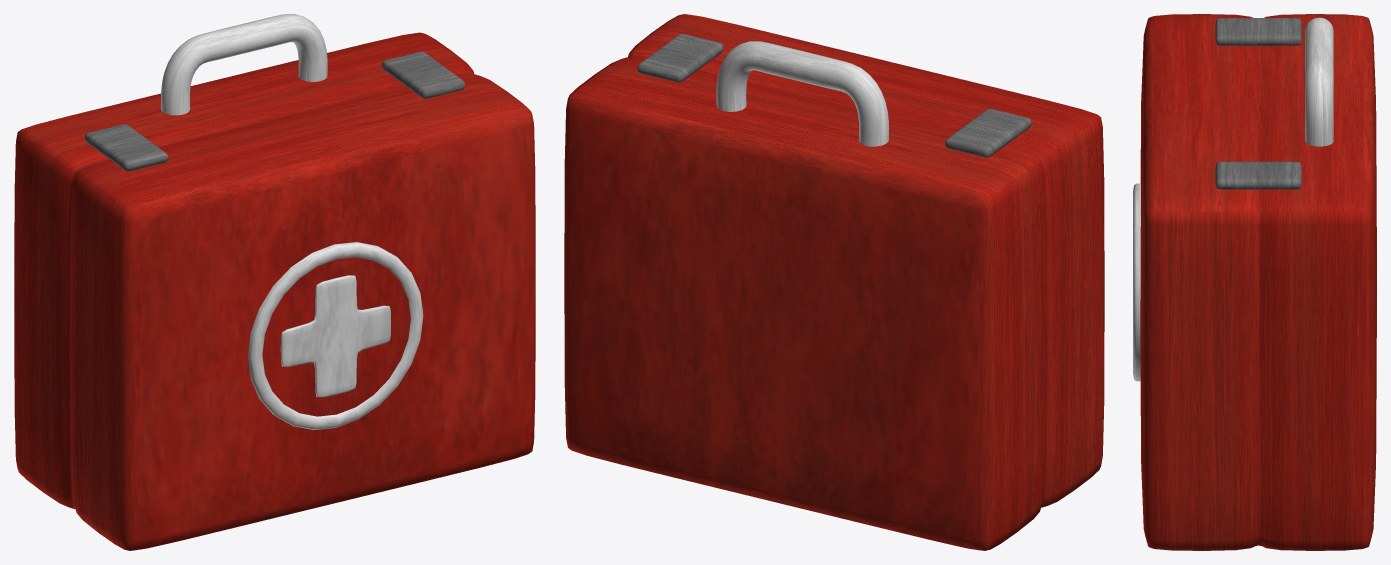
The model's file is MedKit.fbx.
3 views of the same model, side by side, from view 1: azimuth 30°, elevation 25°; view 2: azimuth 150°, elevation 25°; view 3: azimuth 270°, elevation 25° (orthographic). The views are drawn at different scales.
Visible parts, largest first — view 1: Cube.002; view 2: Cube.002; view 3: Cube.002.
Boxes of the visible parts, bbox=[...] form: Cube.002: bbox=[14, 14, 535, 550]; Cube.002: bbox=[564, 14, 1104, 550]; Cube.002: bbox=[1133, 14, 1376, 550].
Size of the model in its own units: 60.74 by 58.21 by 30.83.
Materials: 1 (1 with a texture image).
